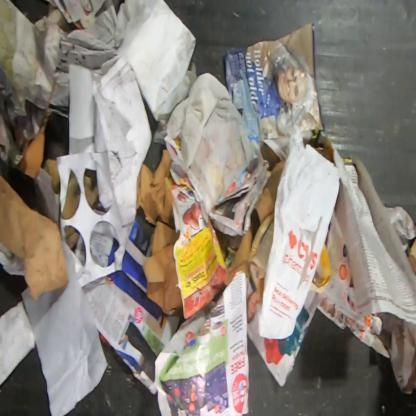cardboard: (0, 172, 69, 301)
